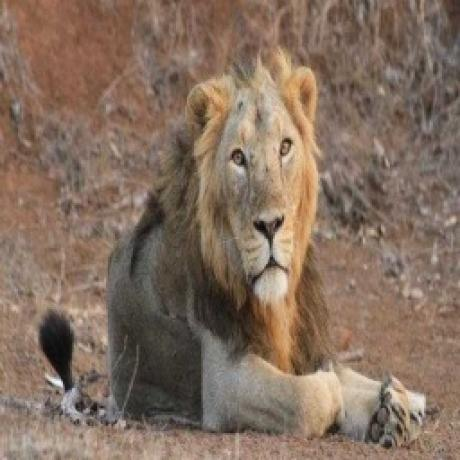Lion: (38, 43, 429, 448)
